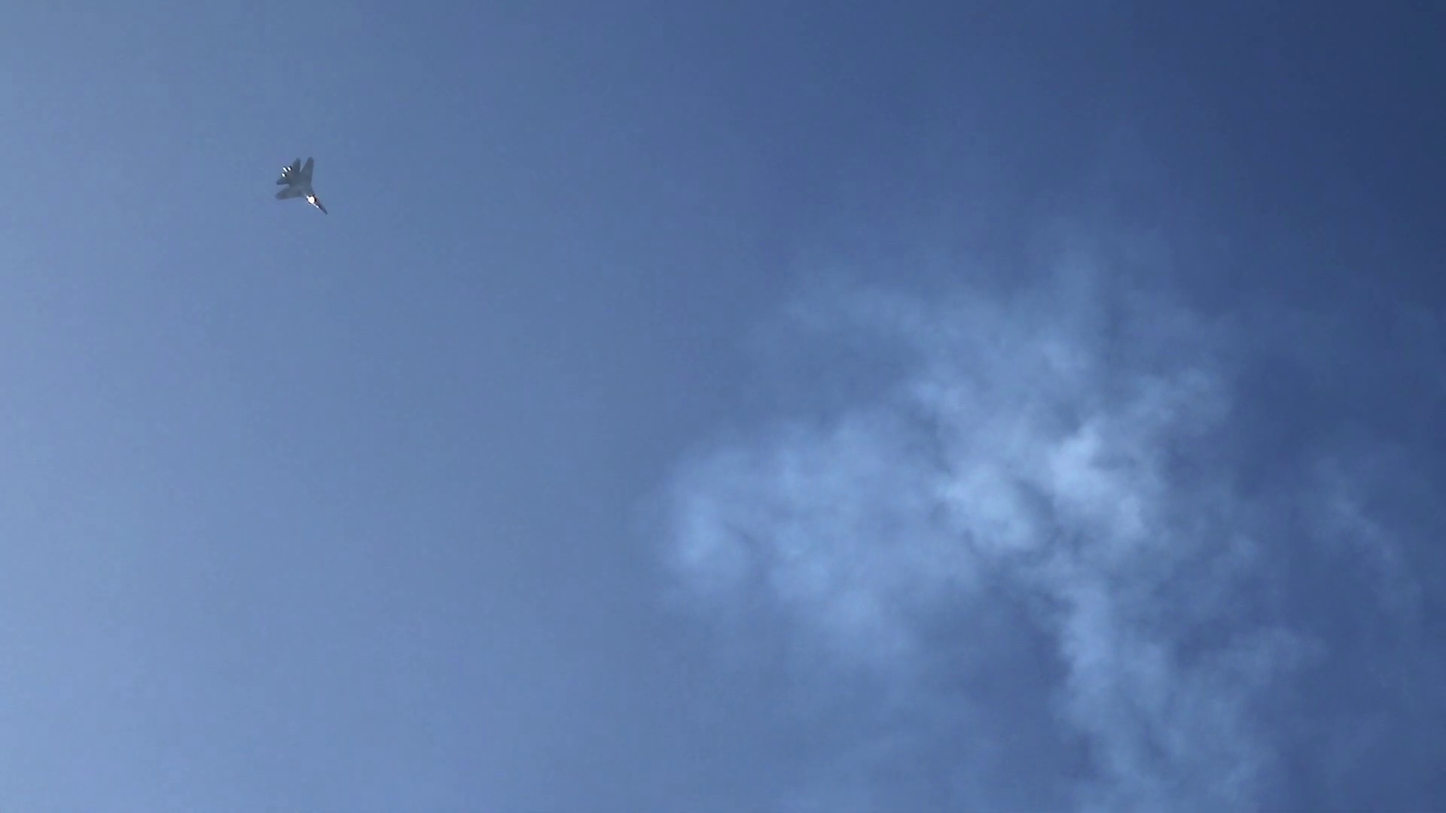Su35: (274, 157, 328, 215)
